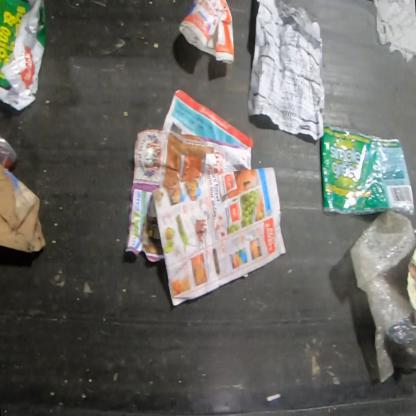cardboard: (0, 161, 47, 255)
rigid_plastic: (177, 0, 235, 65), (0, 135, 18, 170)
soft_plastic: (349, 211, 416, 384), (319, 124, 415, 217), (0, 0, 47, 112)
